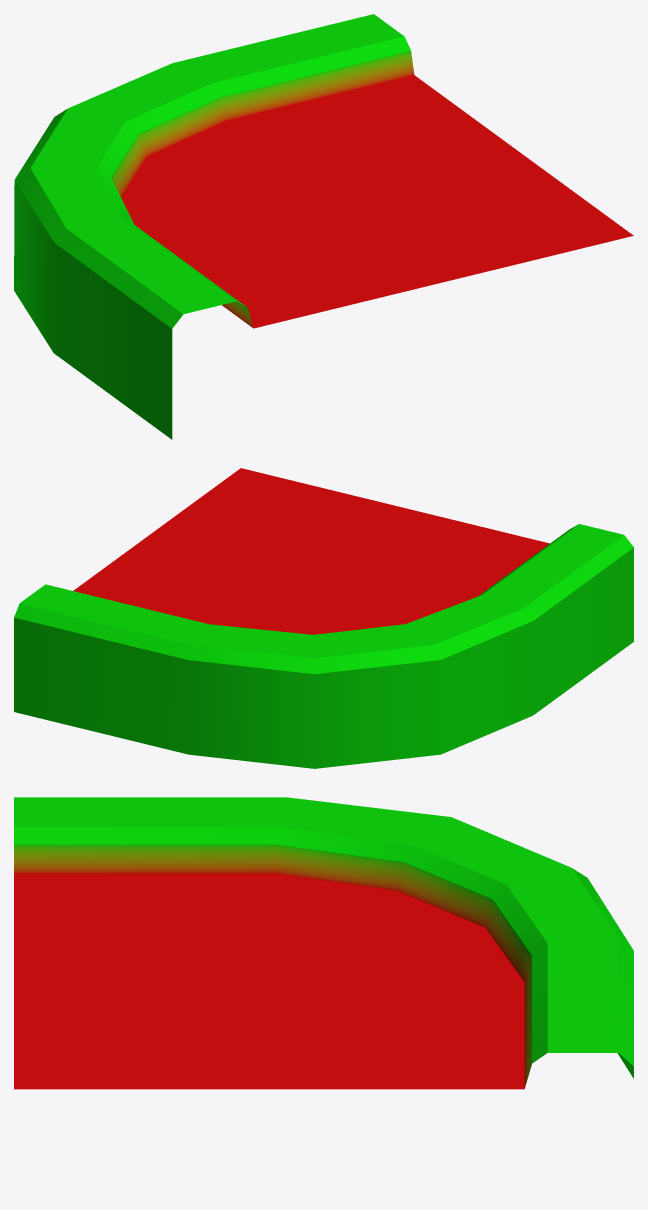
The model's file is NarrowRoad_Corner.fbx.
3 renders of one model, top to bottom at view 1: azimuth 30°, elevation 25°; view 2: azimuth 150°, elevation 25°; view 3: azimuth 270°, elevation 25°, orthographic. The views are drawn at different scales.
Parts seen in each view (by area): view 1: NarrowRoad_Corner; view 2: NarrowRoad_Corner; view 3: NarrowRoad_Corner.
Boxes of the visible parts, box(x1,y1,x2,y2) form: NarrowRoad_Corner: box(14, 14, 633, 439); NarrowRoad_Corner: box(14, 468, 633, 768); NarrowRoad_Corner: box(14, 797, 633, 1089).
Size of the model in its own units: 100 by 100 by 25.42.
